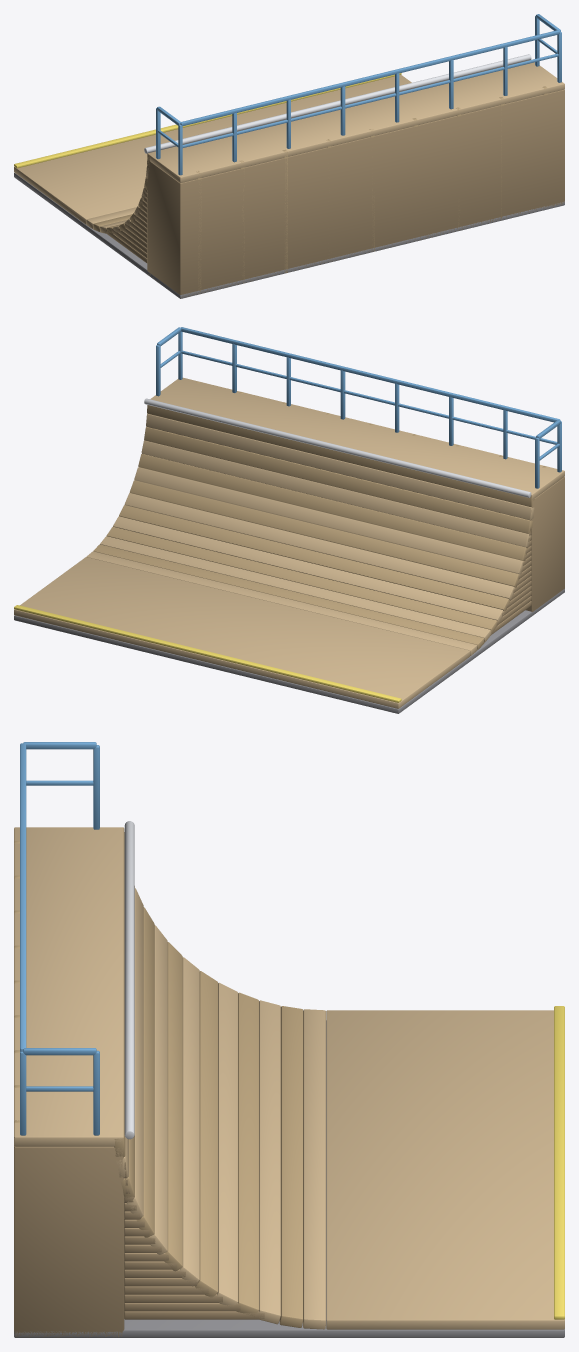
Rendered from th16_skate_rampe.glb.
3 renders of one model, top to bottom at view 1: azimuth 30°, elevation 25°; view 2: azimuth 150°, elevation 25°; view 3: azimuth 270°, elevation 25°, orthographic. The views are drawn at different scales.
Visible parts, largest first — view 1: Cube.036, Cube.037, Cube.034, Cube, Cylinder, Cube.047, Cube.035, Cube.048; view 2: Cube.034, Cube.037, Cube.024, Cube.025, Cube.023, Cube.026, Cube.022, Cube.027, Cube.021, Cube.028, Cube.029, Cube.030 (+10 smaller); view 3: Cube.034, Cube.037, Cube.036, Cube.032, Cube.033, Cube.031, Cube.030, Cube, Cube.029, Cube.028, Cube.027, Cube.026 (+12 smaller).
Part boxes in pixels (bbox=[...]): Cube.036: bbox=[147, 89, 564, 298]; Cube.037: bbox=[147, 59, 564, 182]; Cube.034: bbox=[14, 75, 411, 224]; Cube: bbox=[14, 172, 564, 298]; Cylinder: bbox=[144, 54, 531, 153]; Cube.047: bbox=[180, 30, 560, 125]; Cube.035: bbox=[14, 73, 401, 168]; Cube.048: bbox=[182, 53, 558, 147]; Cube.034: bbox=[14, 557, 470, 708]; Cube.037: bbox=[150, 377, 564, 499]; Cube.024: bbox=[138, 454, 527, 560]; Cube.025: bbox=[134, 467, 523, 574]; Cube.023: bbox=[141, 440, 530, 547]; Cube.026: bbox=[129, 480, 519, 587]; Cube.022: bbox=[144, 427, 532, 533]; Cube.027: bbox=[124, 493, 514, 599]; Cube.021: bbox=[146, 413, 534, 520]; Cube.028: bbox=[119, 505, 510, 610]; Cube.029: bbox=[113, 516, 504, 622]; Cube.030: bbox=[106, 526, 497, 632]; Cube.034: bbox=[326, 1010, 564, 1329]; Cube.037: bbox=[14, 827, 123, 1146]; Cube.036: bbox=[14, 1146, 124, 1337]; Cube.032: bbox=[279, 1006, 303, 1327]; Cube.033: bbox=[303, 1009, 325, 1329]; Cube.031: bbox=[259, 1000, 280, 1324]; Cube.030: bbox=[236, 992, 258, 1317]; Cube: bbox=[14, 1020, 564, 1337]; Cube.029: bbox=[217, 982, 237, 1308]; Cube.028: bbox=[195, 971, 217, 1297]; Cube.027: bbox=[179, 957, 199, 1286]; Cube.026: bbox=[162, 942, 182, 1271].
Size of the model in its own units: 8 by 3.46 by 6.
